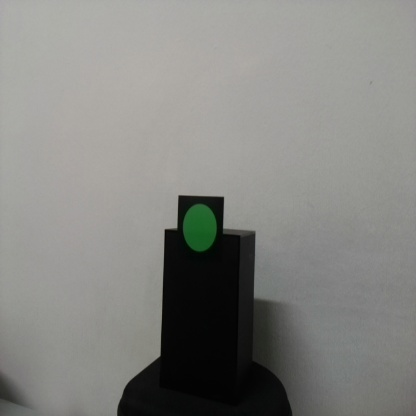id_5: (177, 196, 224, 262)
